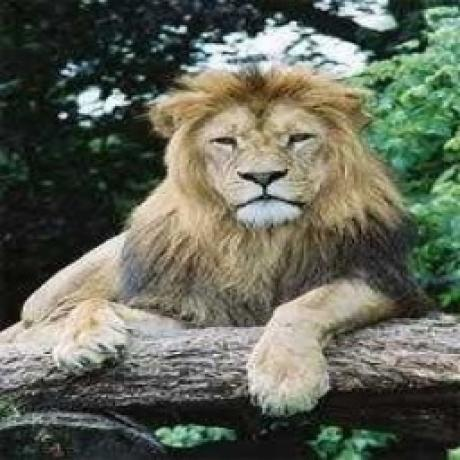Lion: (19, 56, 425, 420)
